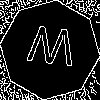W: (25, 25, 77, 76)
